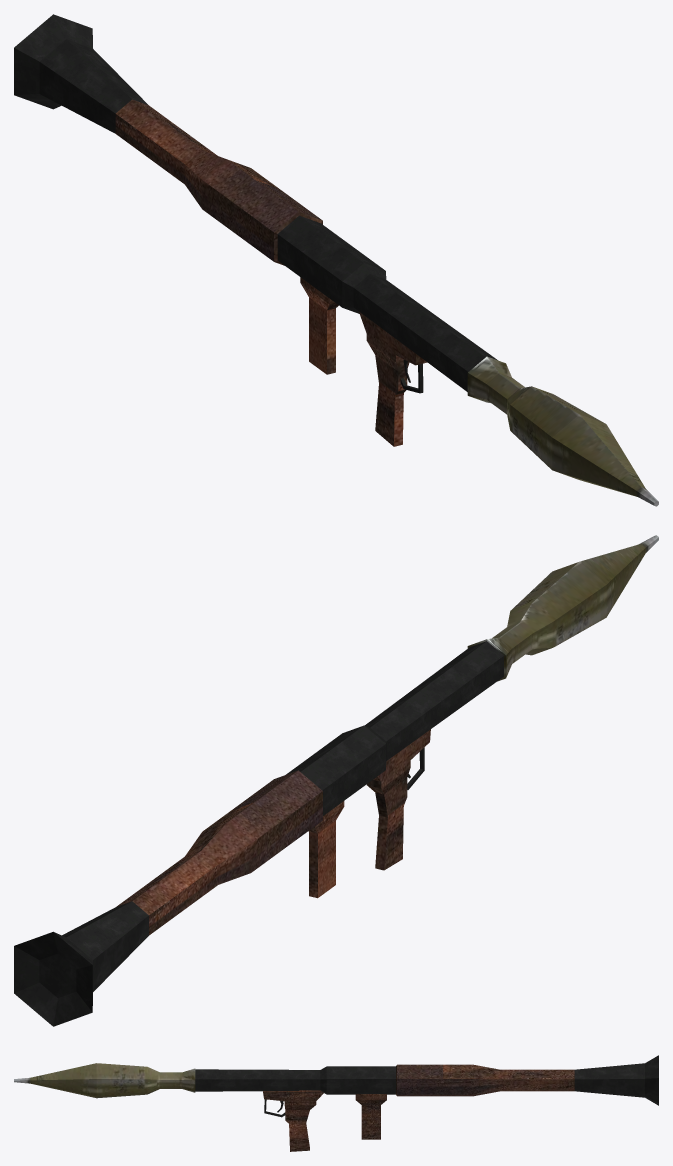
The model's file is rpg7.glb.
3 views of the same model, one above another, from view 1: azimuth 30°, elevation 25°; view 2: azimuth 150°, elevation 25°; view 3: azimuth 270°, elevation 25° (orthographic). The views are drawn at different scales.
Parts seen in each view (by area): view 1: RPG7, RPG7WRocket; view 2: RPG7, RPG7WRocket; view 3: RPG7, RPG7WRocket.
Part boxes in pixels (left/top/right/bottom): RPG7: left=14, top=14, right=497, bottom=446; RPG7WRocket: left=467, top=356, right=658, bottom=506; RPG7: left=14, top=641, right=503, bottom=1026; RPG7WRocket: left=467, top=535, right=658, bottom=681; RPG7: left=195, top=1055, right=658, bottom=1151; RPG7WRocket: left=14, top=1063, right=195, bottom=1098.
Size of the model in its own units: 0.3564 by 0.7742 by 4.73.
3 materials, 3 textured.
